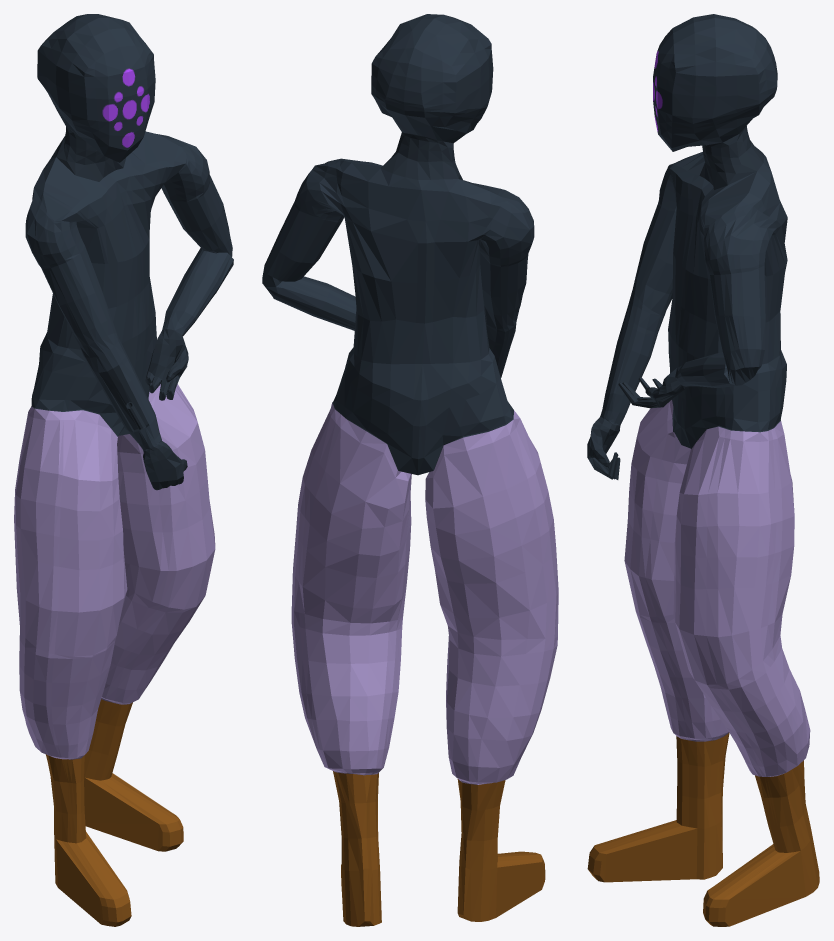
The model's file is Oracle_WL_000002.obj.
3 renders of one model, left to right at view 1: azimuth 30°, elevation 25°; view 2: azimuth 150°, elevation 25°; view 3: azimuth 270°, elevation 25°, orthographic. The views are drawn at different scales.
Parts seen in each view (by area): view 1: Cube; view 2: Cube; view 3: Cube.
Part boxes in pixels (x1,y1,x2,y2): Cube: [14, 14, 233, 926]; Cube: [262, 14, 558, 926]; Cube: [587, 14, 819, 926].
Bounding box in the file's own units: 1.16 × 3.94 × 0.9453.
